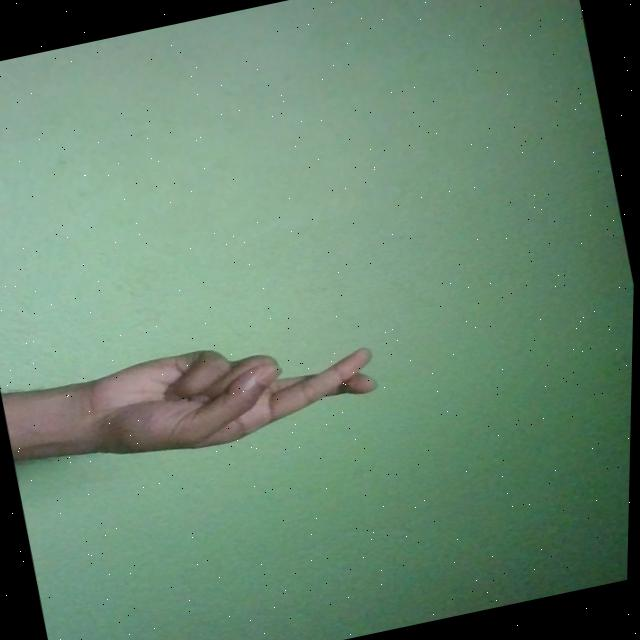Good Luck: (75, 314, 386, 471)
